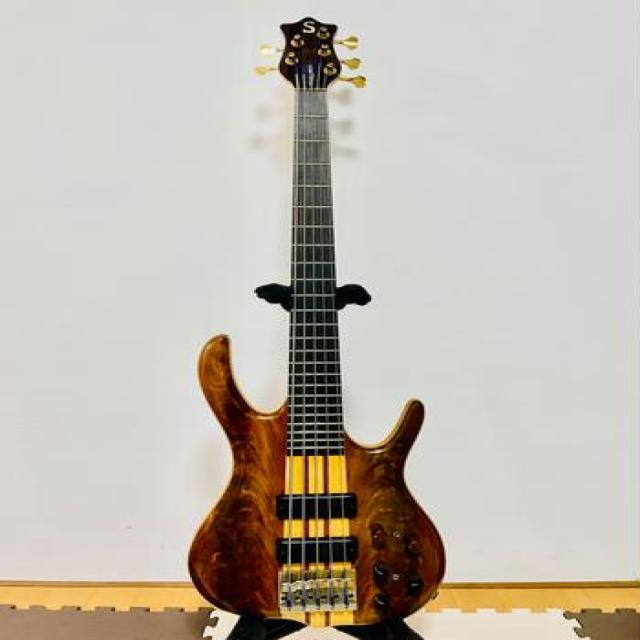bass: (189, 18, 444, 625)
